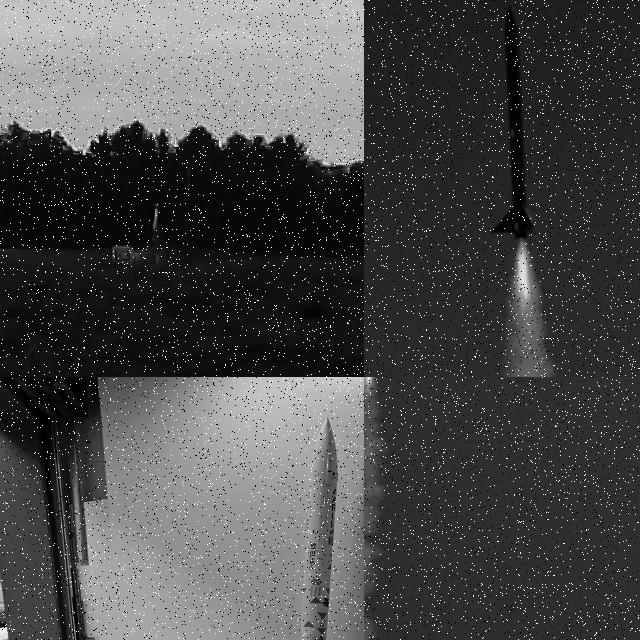Rocket: (492, 4, 538, 241), (300, 417, 338, 640), (150, 202, 160, 242)
